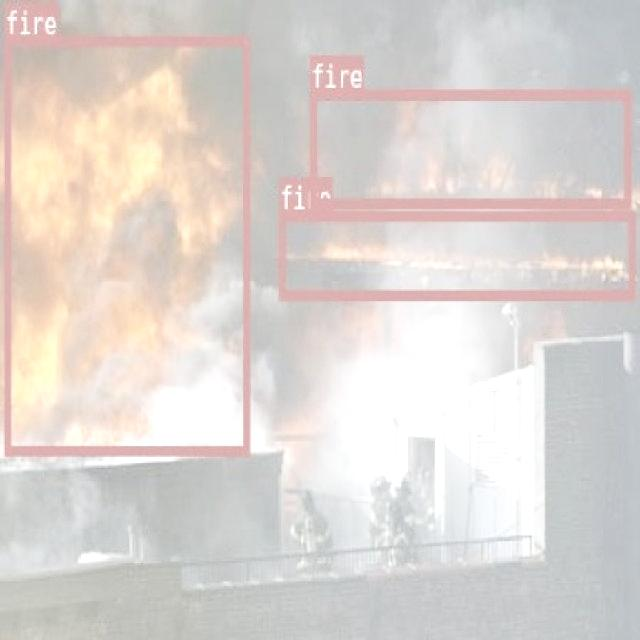fire: (3, 36, 248, 455), (310, 87, 630, 207), (277, 211, 634, 297)
